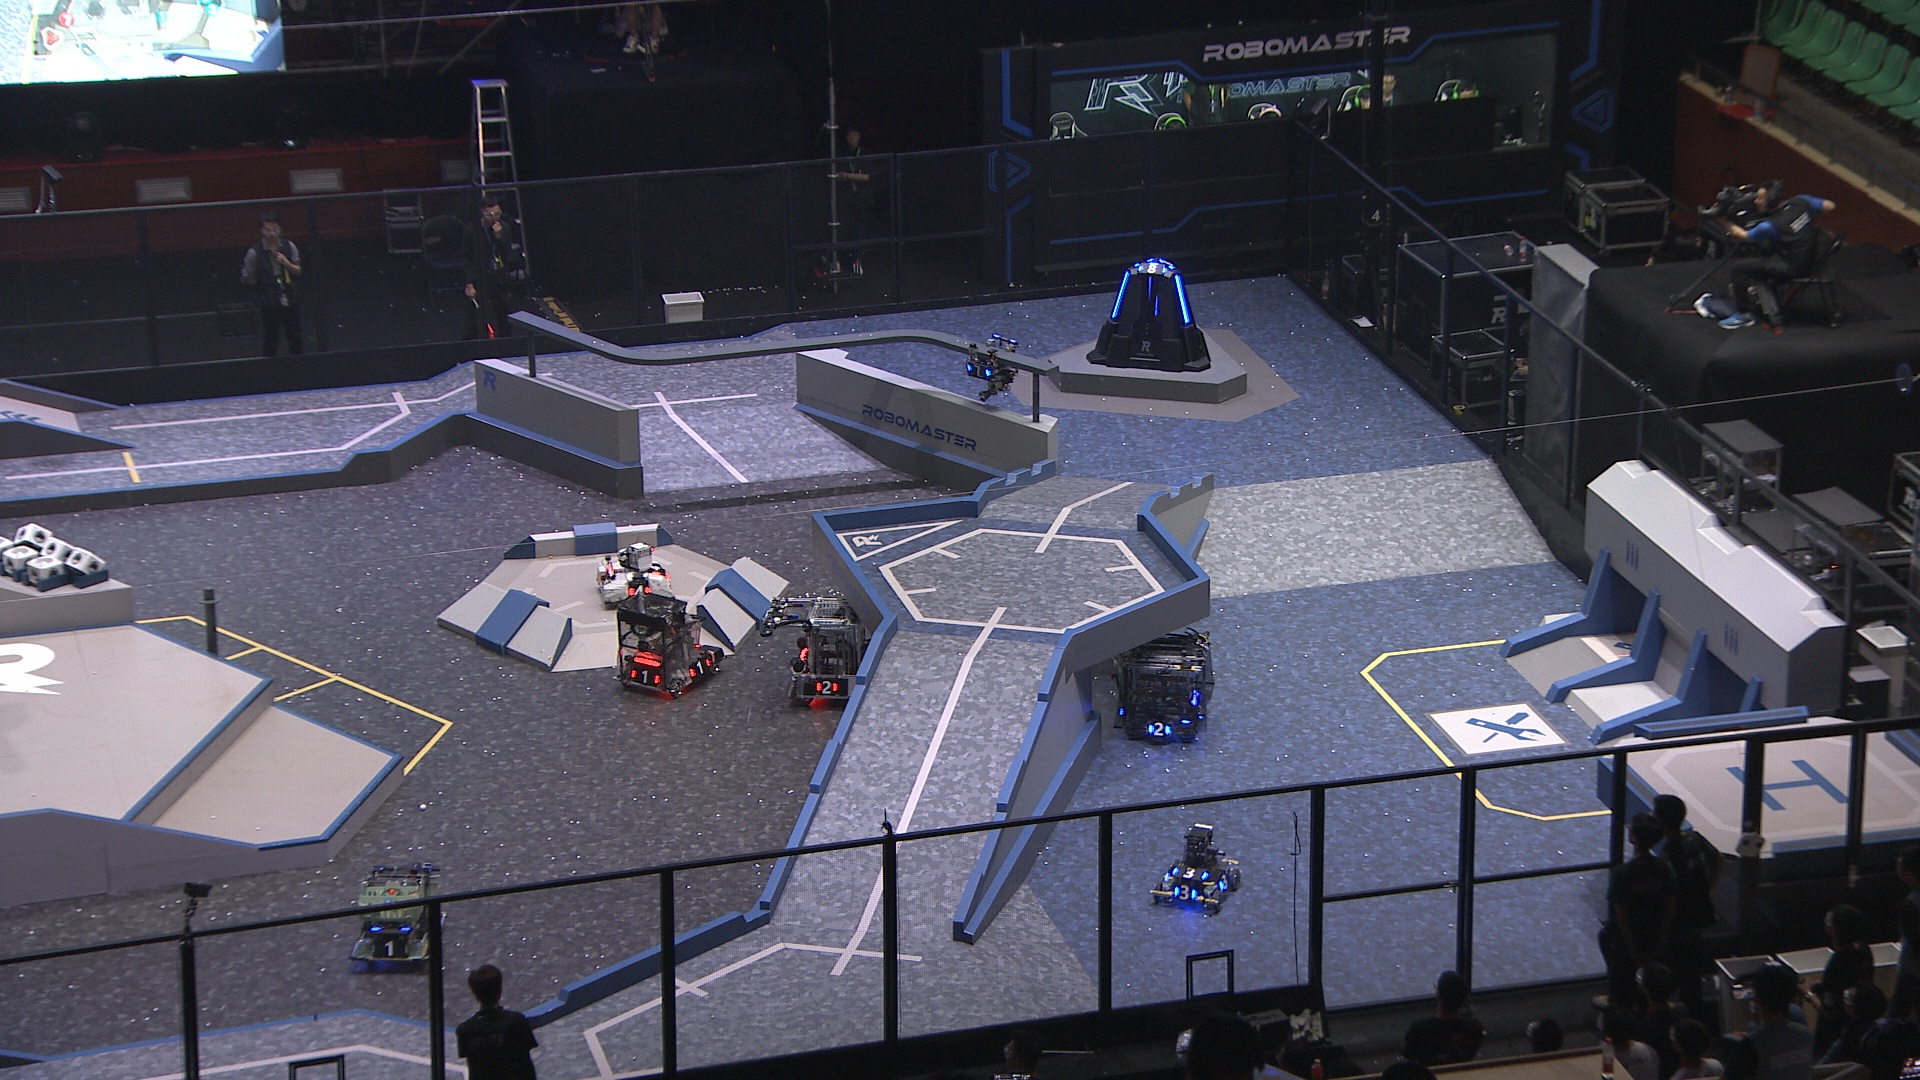armor: (1110, 272, 1131, 320), (1176, 276, 1193, 324), (373, 938, 407, 960), (626, 669, 661, 688), (1168, 864, 1211, 880), (1138, 258, 1168, 276), (964, 363, 993, 380), (1149, 719, 1174, 738), (814, 678, 841, 695), (1174, 884, 1199, 902), (688, 659, 713, 678), (626, 582, 650, 597), (1216, 873, 1233, 893), (647, 562, 665, 574)
base: (1084, 257, 1211, 373)
car: (785, 593, 891, 707), (1112, 633, 1216, 744), (613, 595, 723, 699), (353, 866, 448, 968), (1149, 822, 1244, 913), (593, 542, 673, 608)
watcher: (961, 334, 1021, 398)
